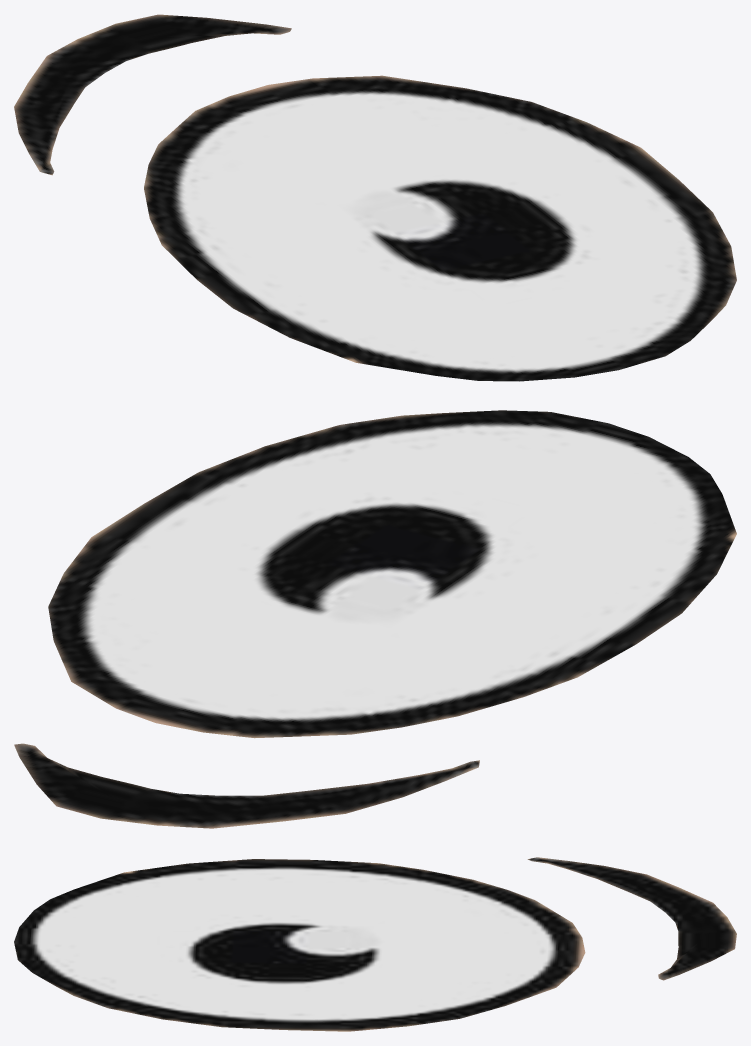
Rendered from Eye2.fbx.
The picture shows the model from 3 angles, top to bottom: view 1: azimuth 30°, elevation 25°; view 2: azimuth 150°, elevation 25°; view 3: azimuth 270°, elevation 25°; orthographic projection. The views are drawn at different scales.
Parts seen in each view (by area): view 1: Circle.001; view 2: Circle.001; view 3: Circle.001.
Boxes of the visible parts, <box> form: Circle.001: <box>14,14,736,381</box>; Circle.001: <box>14,410,736,828</box>; Circle.001: <box>14,857,736,1031</box>.
Bounding box in the file's own units: 246 × 7.39e-05 × 430.
Materials: 2 (2 with a texture image).
